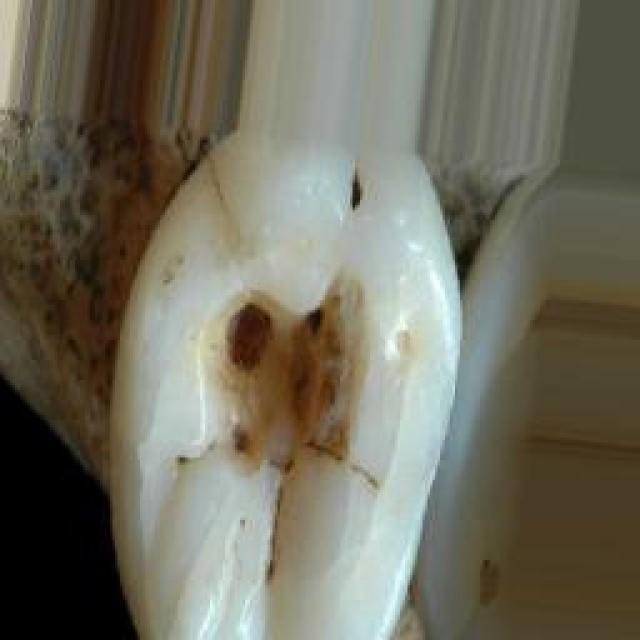caries: (188, 280, 372, 512), (338, 185, 372, 203)
